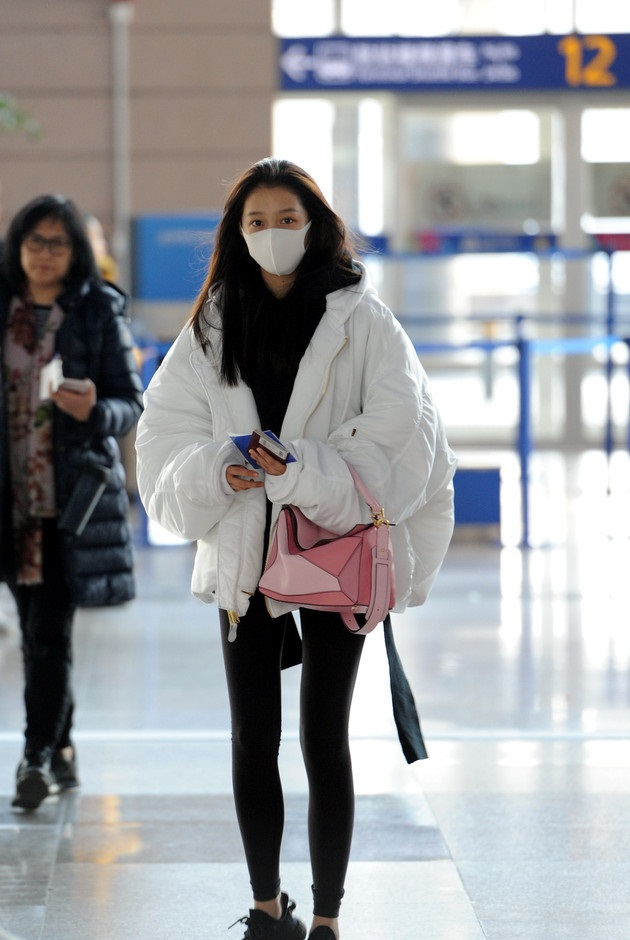face: (21, 216, 68, 285)
face_mask: (245, 183, 308, 271)
